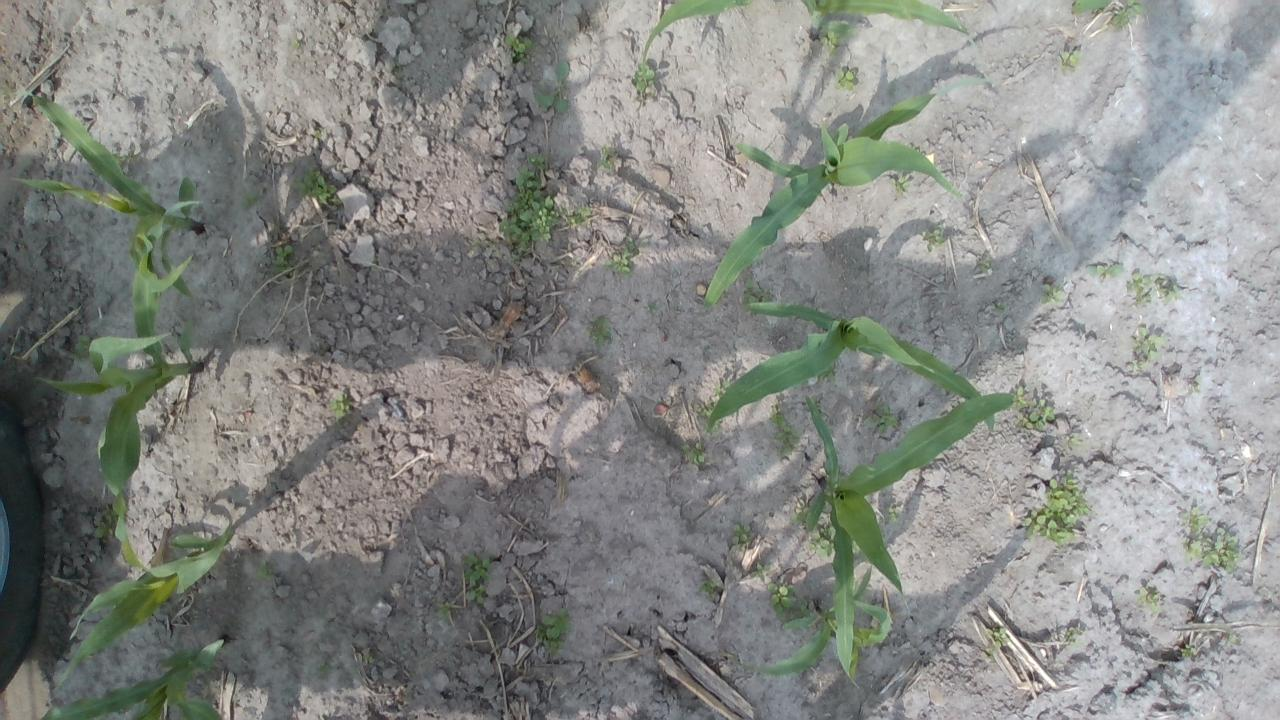Maize: (33, 232, 235, 592), (803, 390, 1038, 690), (701, 78, 1000, 311), (12, 89, 205, 306), (704, 301, 996, 440), (52, 520, 228, 692), (642, 0, 992, 74), (728, 559, 891, 676), (39, 631, 235, 720)
Weeds: (498, 153, 562, 249), (1022, 476, 1092, 546), (1179, 507, 1243, 574), (1012, 386, 1057, 432), (1072, 0, 1143, 29), (534, 61, 570, 115), (534, 606, 574, 653), (604, 236, 650, 276), (1130, 326, 1168, 373), (1130, 274, 1182, 308), (297, 168, 340, 207), (462, 554, 494, 604), (770, 408, 800, 456), (864, 404, 898, 437), (767, 580, 797, 615), (810, 527, 841, 557), (742, 279, 768, 311), (793, 497, 819, 529), (919, 226, 948, 254), (270, 244, 296, 274), (984, 627, 1010, 655), (634, 62, 656, 94), (506, 33, 532, 60), (1137, 586, 1162, 614), (1056, 50, 1084, 75), (328, 391, 350, 422), (562, 204, 590, 227), (681, 441, 706, 466), (590, 318, 612, 346), (1086, 263, 1122, 280), (1040, 283, 1064, 306), (834, 67, 855, 93), (820, 30, 841, 55), (256, 558, 278, 580), (888, 174, 912, 194), (732, 524, 752, 546), (435, 598, 457, 618), (1066, 626, 1086, 647), (979, 252, 996, 276), (750, 562, 770, 582), (698, 579, 718, 594), (598, 148, 612, 168), (1180, 645, 1196, 661), (886, 507, 902, 523), (649, 301, 660, 314), (293, 39, 300, 52)
